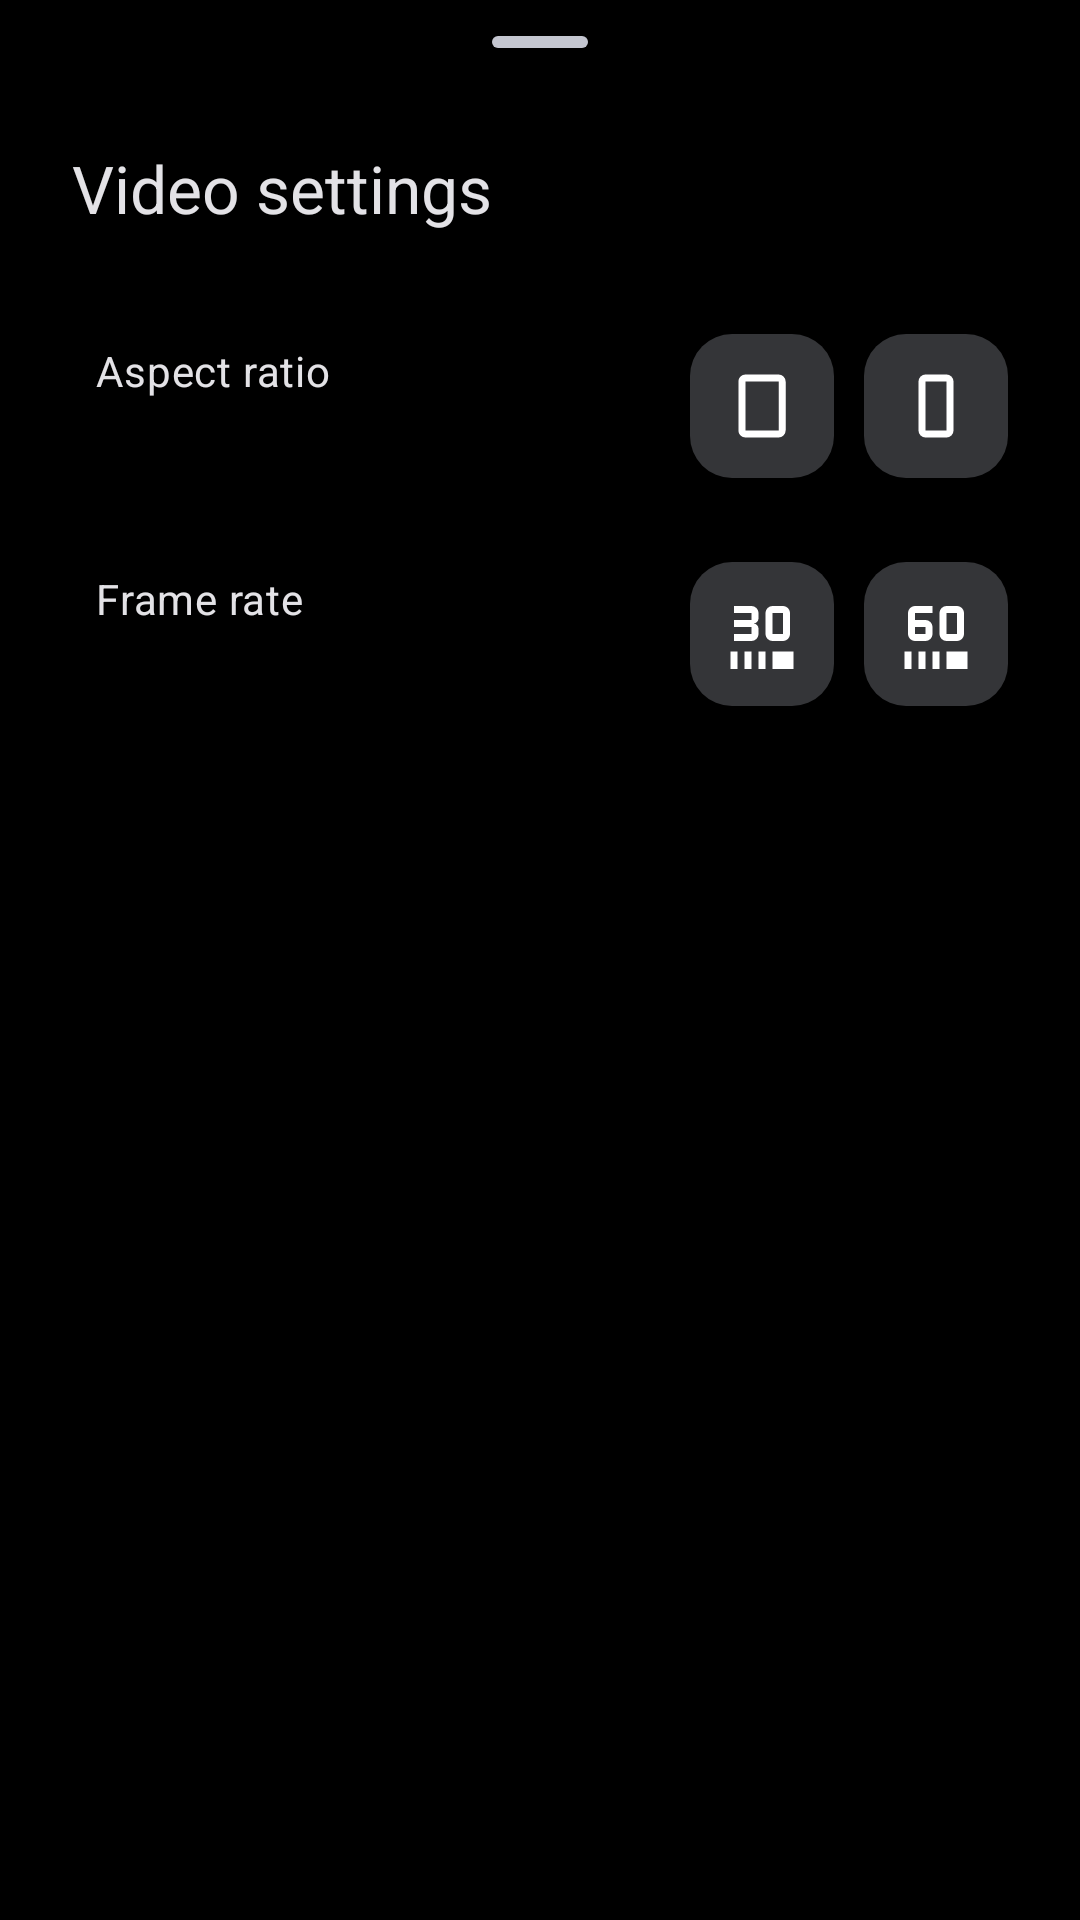

Where icons sit on this 1080 × 1920 app screen, as bbox(x1, y1, x2, y2):
30 fps: bbox(690, 562, 834, 706)
60 fps: bbox(864, 562, 1008, 706)
aspect: bbox(690, 334, 834, 478), bbox(864, 334, 1008, 478)
